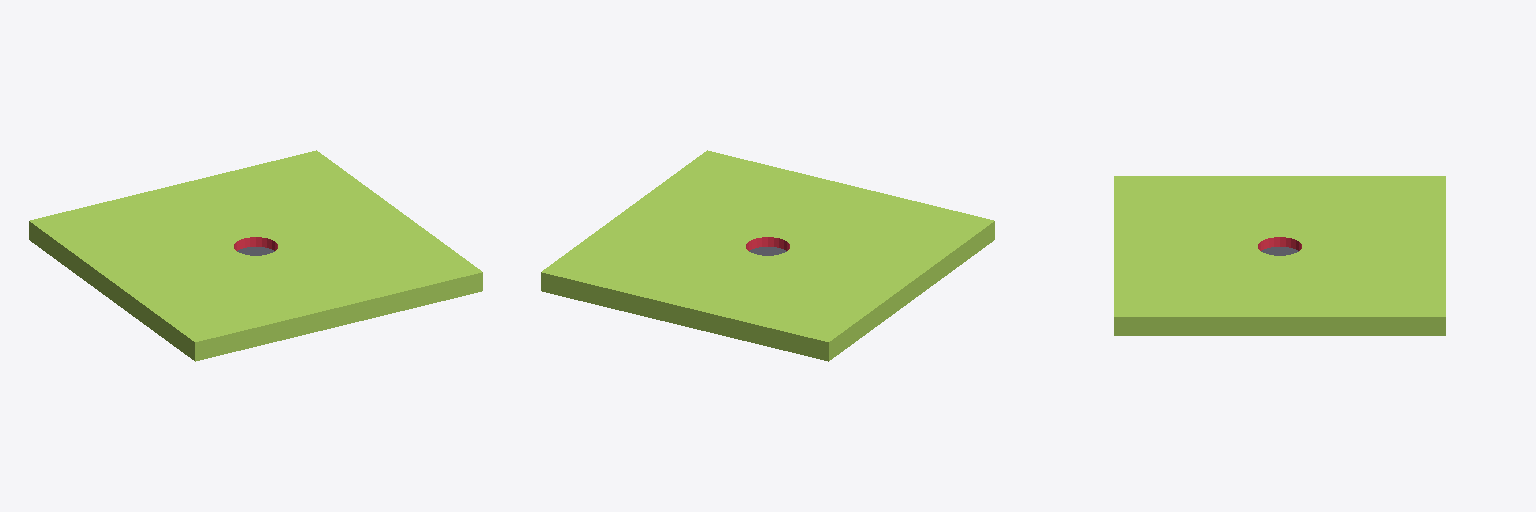
Rendered from holeOpen.obj.
3 views of the same model, side by side, from view 1: azimuth 30°, elevation 25°; view 2: azimuth 150°, elevation 25°; view 3: azimuth 270°, elevation 25° (orthographic).
Parts seen in each view (by area): view 1: holeOpen; view 2: holeOpen; view 3: holeOpen.
Part boxes in pixels (x1,y1,x2,y2): holeOpen: (29,150,482,361); holeOpen: (541,150,994,361); holeOpen: (1114,176,1445,335).
Size of the model in its own units: 0.9999 by 0.0633 by 0.9999.